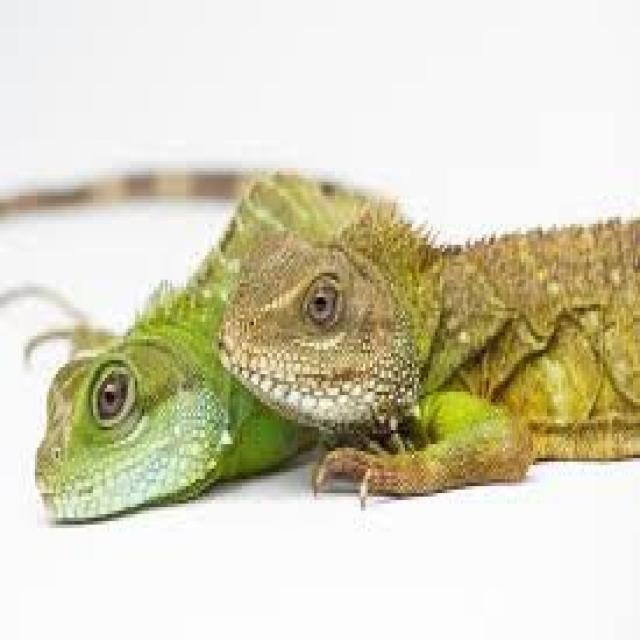Lizard: (229, 227, 640, 500), (30, 269, 235, 509)
